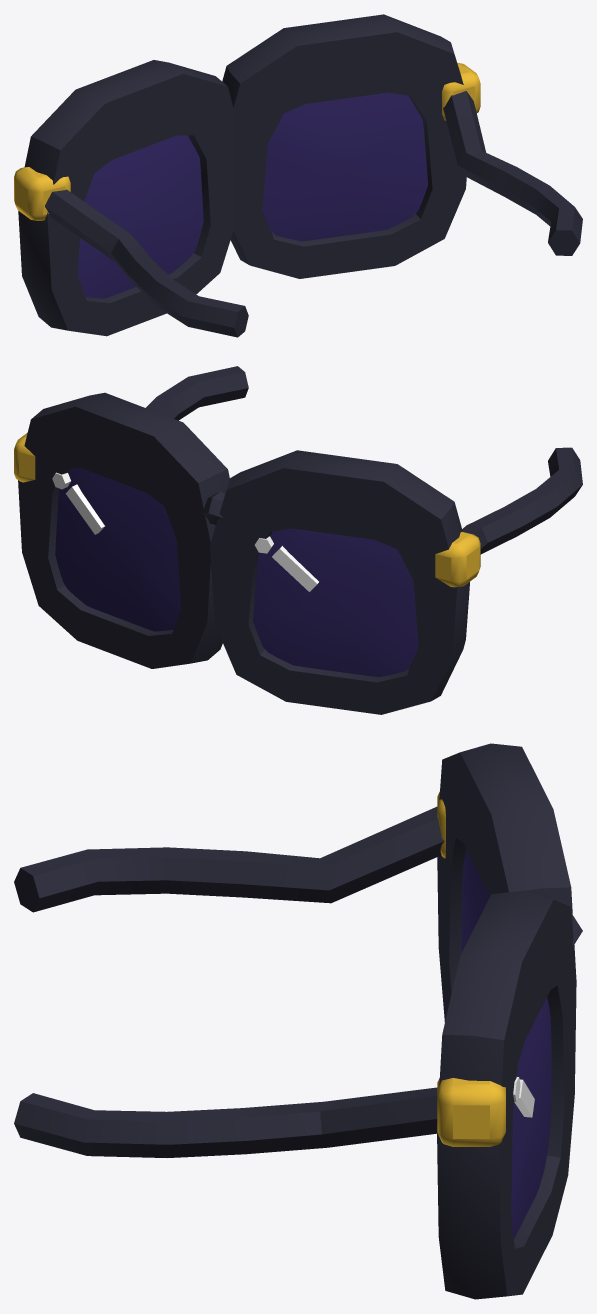
Rendered from lunettes_soleil.fbx.
3 renders of one model, top to bottom at view 1: azimuth 30°, elevation 25°; view 2: azimuth 150°, elevation 25°; view 3: azimuth 270°, elevation 25°, orthographic. The views are drawn at different scales.
Parts seen in each view (by area): view 1: Anim_Lunettes; view 2: Anim_Lunettes; view 3: Anim_Lunettes.
Part boxes in pixels (x1,y1,x2,y2): Anim_Lunettes: (14, 14, 582, 337); Anim_Lunettes: (14, 366, 582, 714); Anim_Lunettes: (14, 743, 582, 1299).
Size of the model in its own units: 0.7058 by 0.3606 by 0.5384.
